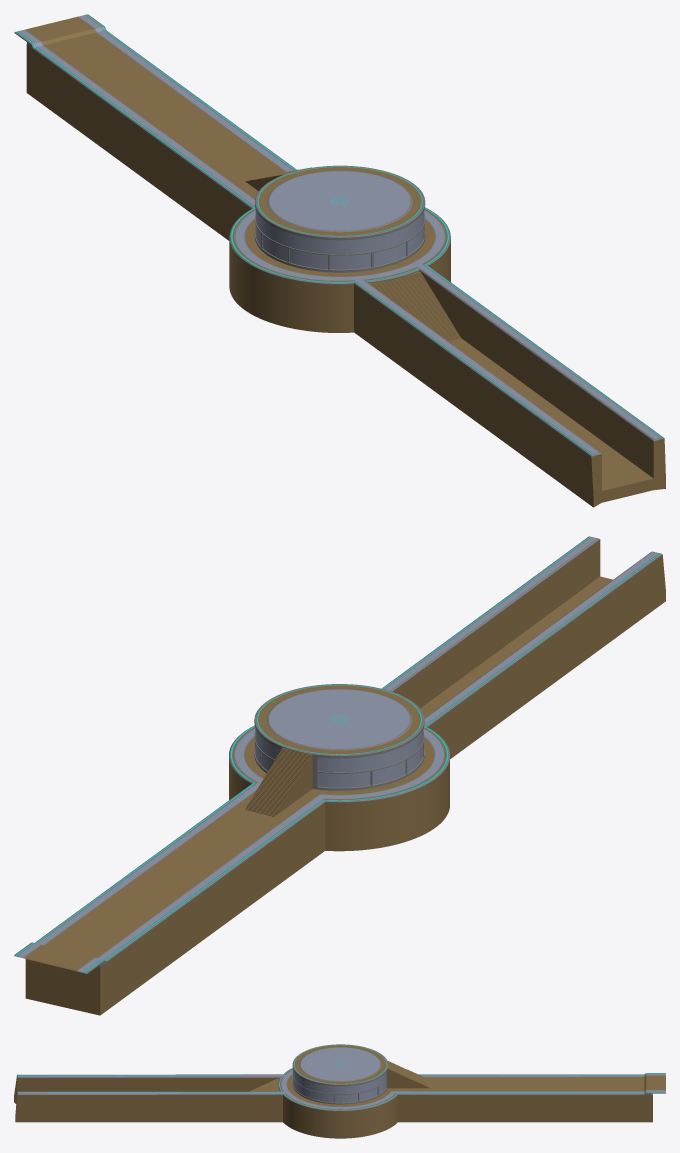
Rendered from StartPointC1A1.fbx.
The picture shows the model from 3 angles, top to bottom: view 1: azimuth 30°, elevation 25°; view 2: azimuth 150°, elevation 25°; view 3: azimuth 270°, elevation 25°; orthographic projection. The views are drawn at different scales.
Parts seen in each view (by area): view 1: StartPointC1A1_LOD0; view 2: StartPointC1A1_LOD0; view 3: StartPointC1A1_LOD0.
Boxes of the visible parts, box(x1,y1,x2,y2) form: StartPointC1A1_LOD0: box(14, 14, 665, 507); StartPointC1A1_LOD0: box(14, 536, 665, 1015); StartPointC1A1_LOD0: box(14, 1044, 665, 1138).
Size of what is drawn, in the model's own units: 5206 by 2212 by 27234.
